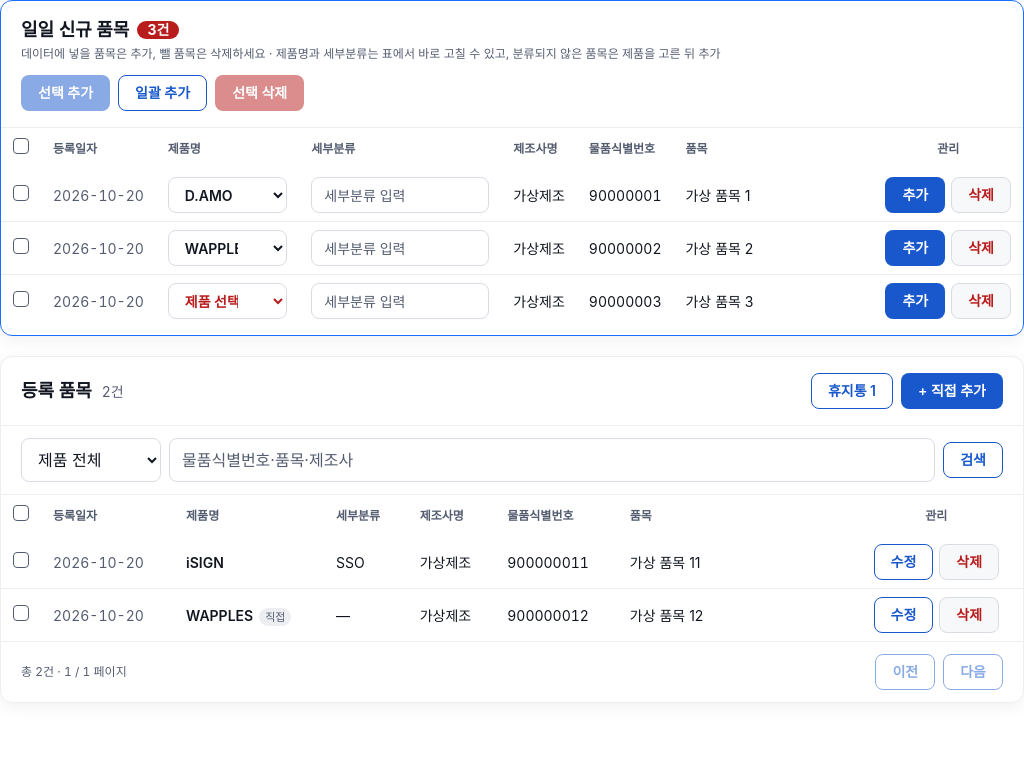
일일 신규 품목 카드 › 제품 미정만 추가하려 하면 서버를 부르지 않고 안내
Click the button "추가" in the row of "90000003". click: {"x": 915, "y": 301}
box: [886, 283, 945, 319]
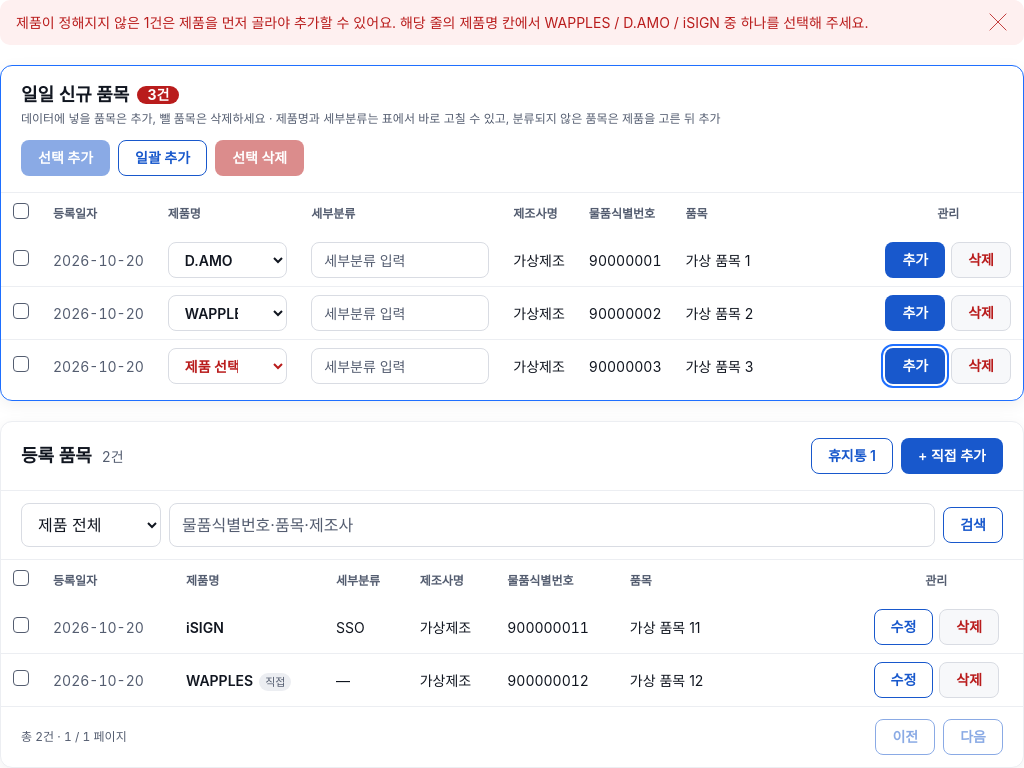
Now the message shows "제품을 먼저 골라야", box [16, 14, 868, 31]
